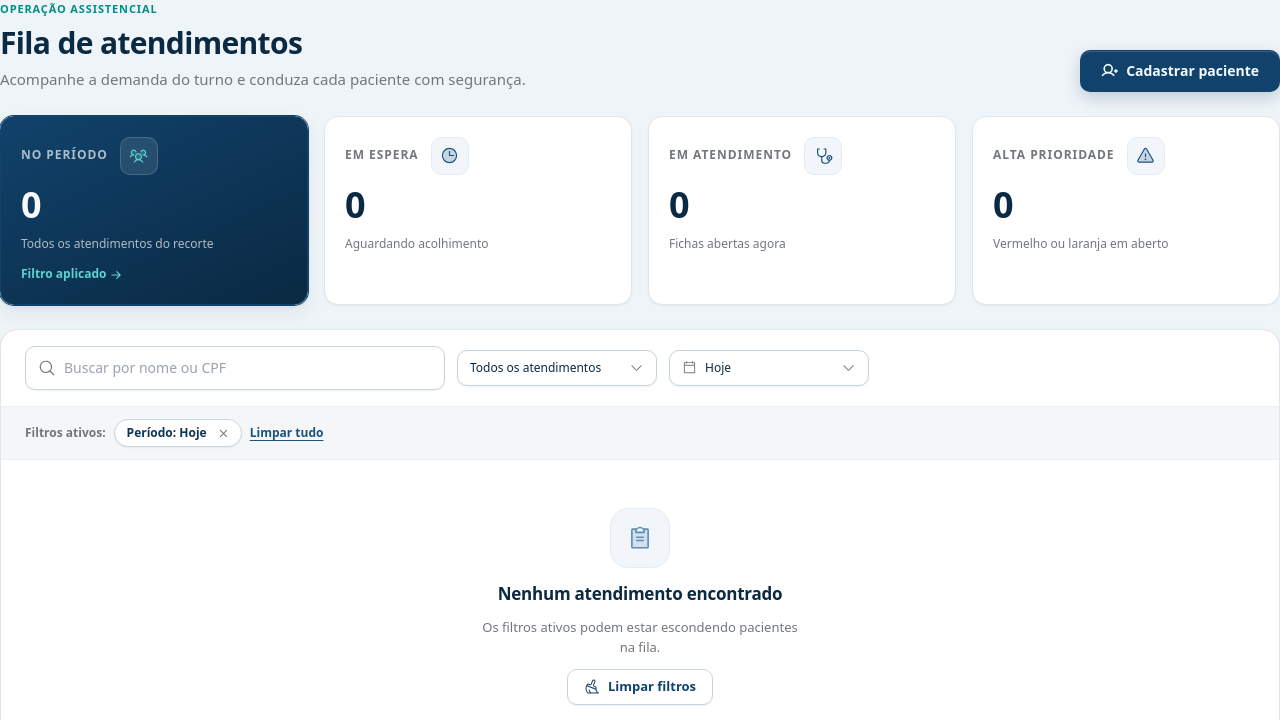
Test: QueuePage › abre o cadastro da pessoa que seguirá para a triagem
Click the button "Cadastrar paciente".
click(1180, 71)  # box [1080,50,1279,92]
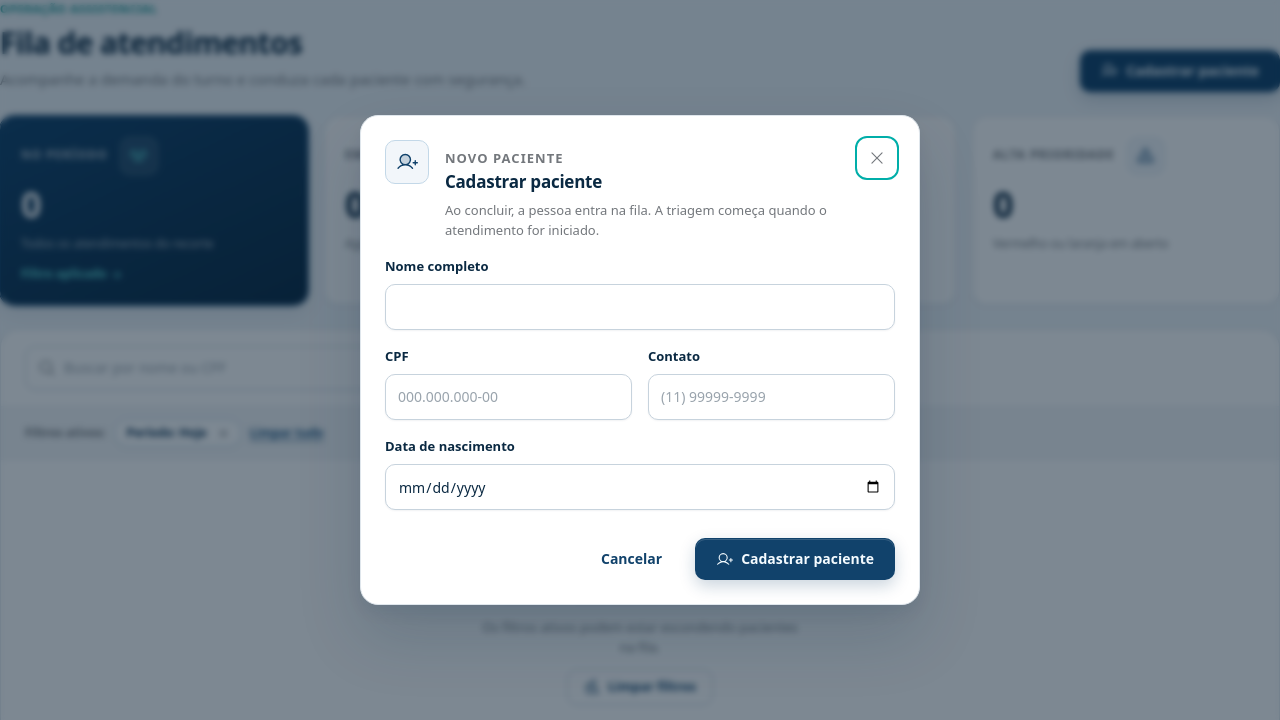
expect the heading "Cadastrar paciente" is shown: met, box [445,170,602,193]
